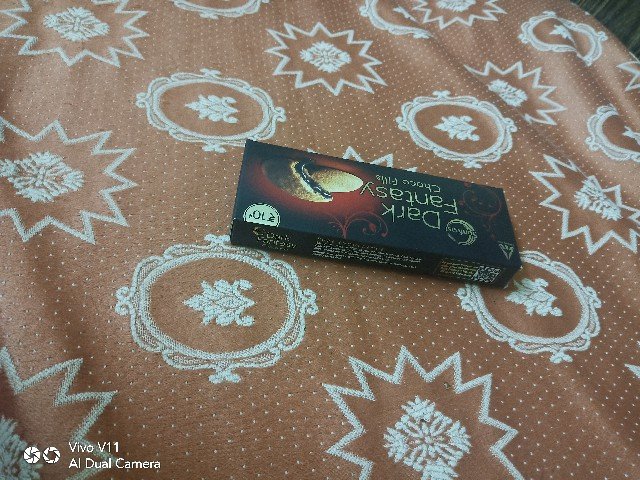darkfantasy small: (223, 130, 529, 311)
